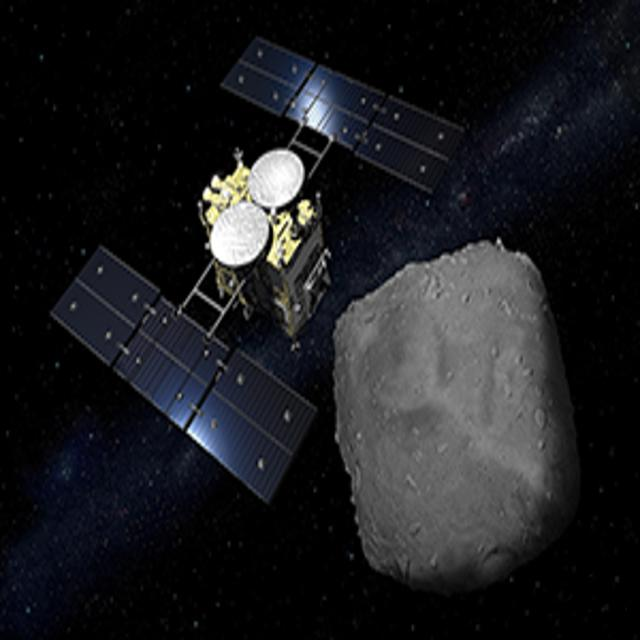large_debris: (338, 236, 581, 603)
satellite: (41, 14, 473, 471)
